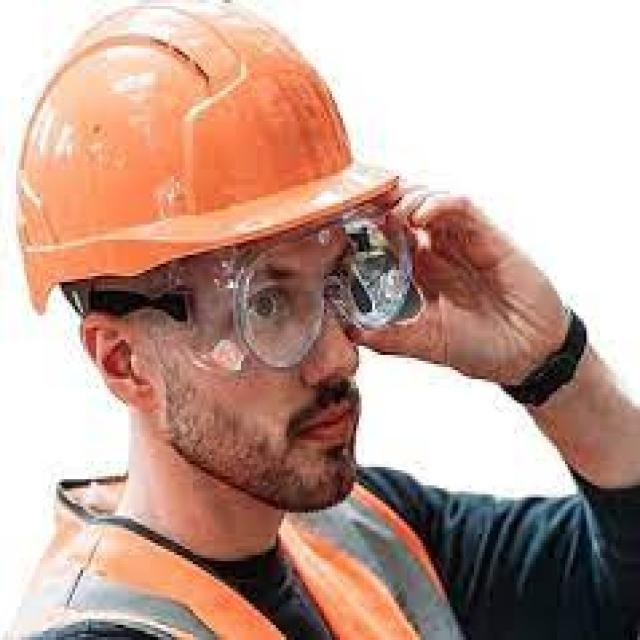glasses: (177, 192, 421, 386)
